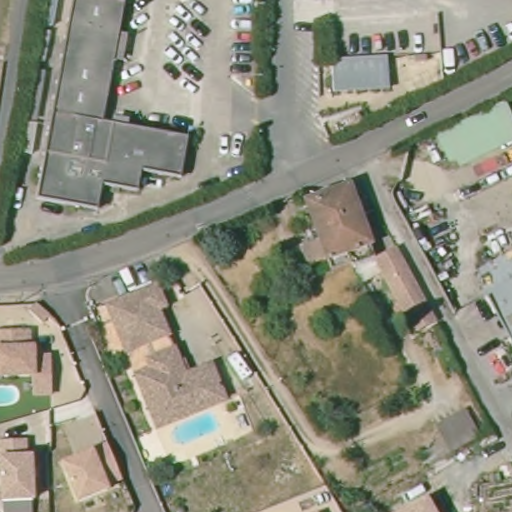pool: (163, 410, 224, 448), (1, 382, 25, 410)
